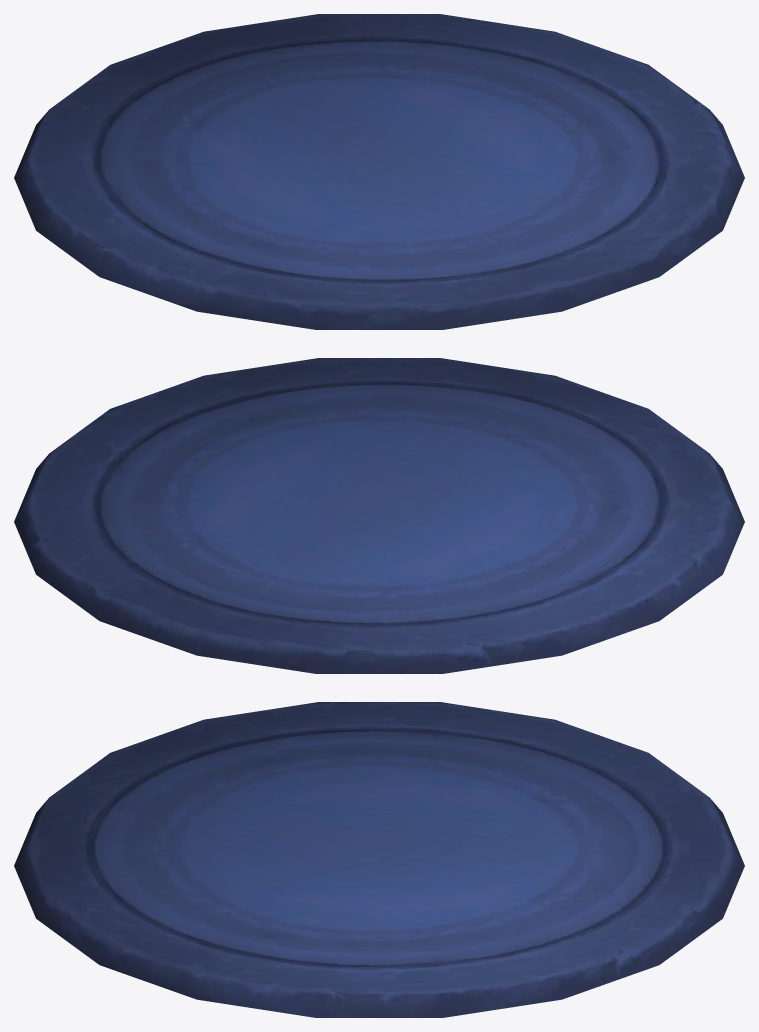
The picture shows the model from 3 angles, top to bottom: view 1: azimuth 30°, elevation 25°; view 2: azimuth 150°, elevation 25°; view 3: azimuth 270°, elevation 25°; orthographic projection.
Size of the model in its own units: 4.02 by 0.1081 by 4.08.
1 material, 1 textured.
